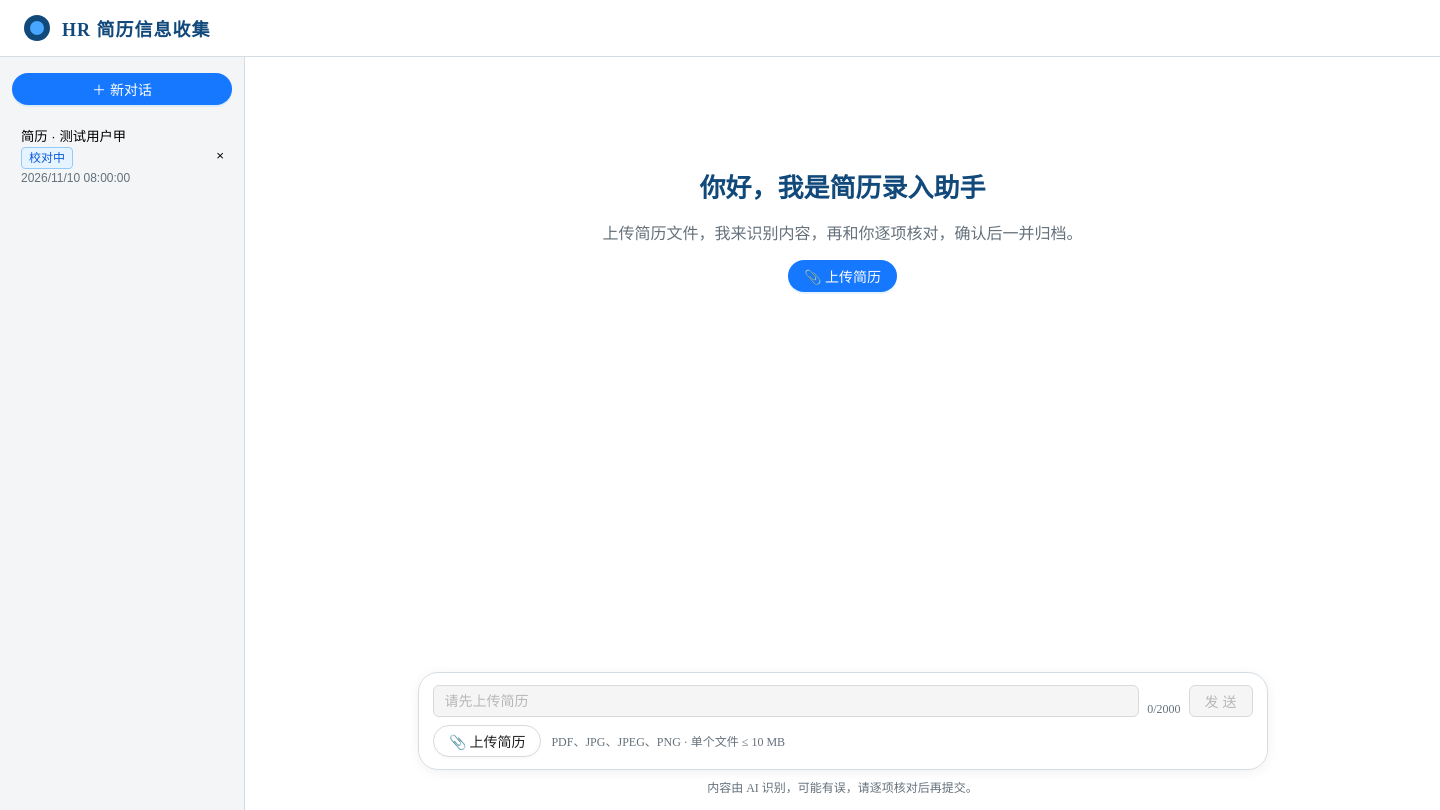
Scenario: suggestion cards (REQ-FE-07.4-07.6) › suggestion_unavailable shows the message inside the card and refreshes it from the server
Later steps or results of the test are not shown.
Click the button "简历 · 测试用户甲 校对中 2026/11/10 08:00:00". click: (108,156)
box: [12, 117, 204, 194]
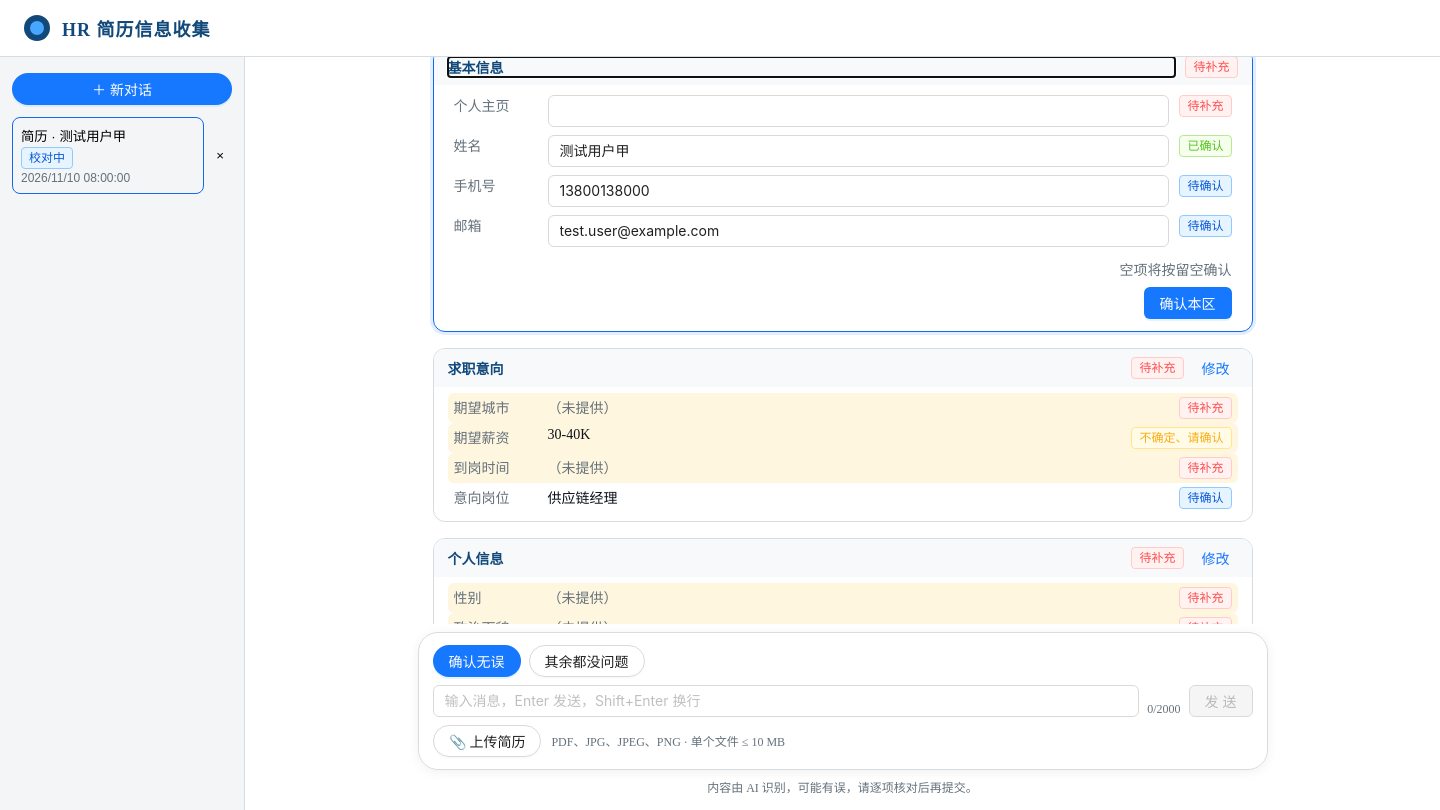
Check: the heading "基本信息" is shown, box [448, 61, 504, 76]
